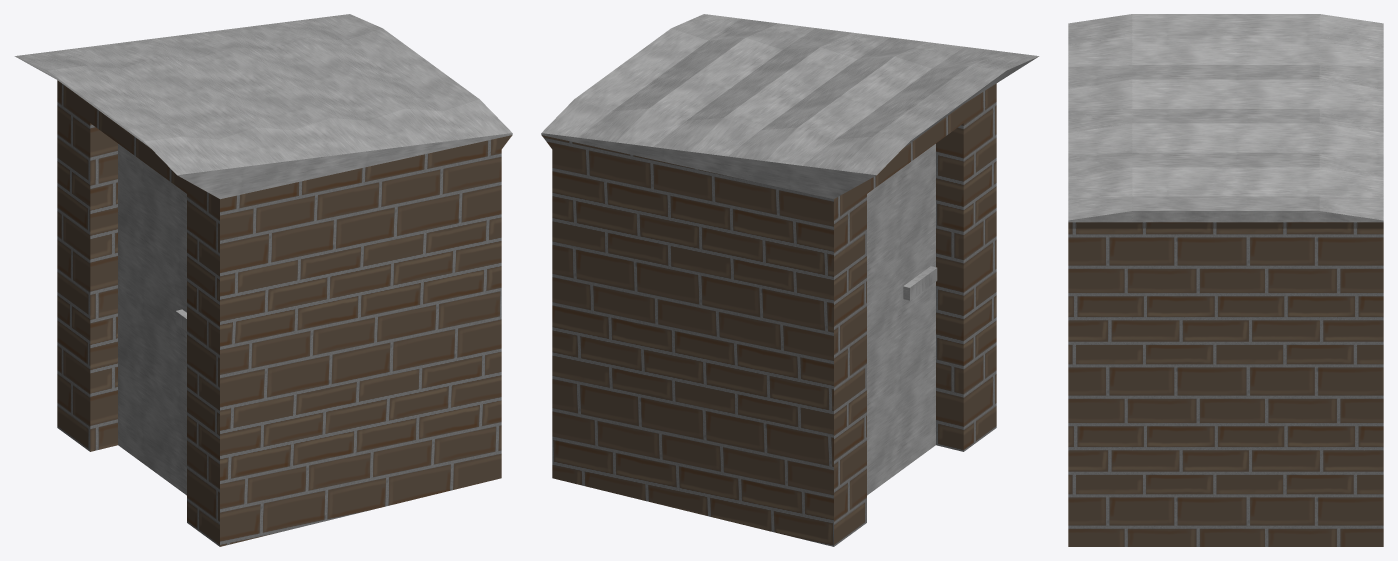
The model's file is top_door.fbx.
The picture shows the model from 3 angles, left to right: view 1: azimuth 30°, elevation 25°; view 2: azimuth 150°, elevation 25°; view 3: azimuth 270°, elevation 25°; orthographic projection. The views are drawn at different scales.
Parts seen in each view (by area): view 1: top_door; view 2: top_door; view 3: top_door.
Boxes of the visible parts, x1,y1,x2,y2 form: top_door: (14, 14, 512, 546); top_door: (541, 14, 1039, 546); top_door: (1068, 14, 1383, 546).
Size of the model in its own units: 238 by 266 by 200.
